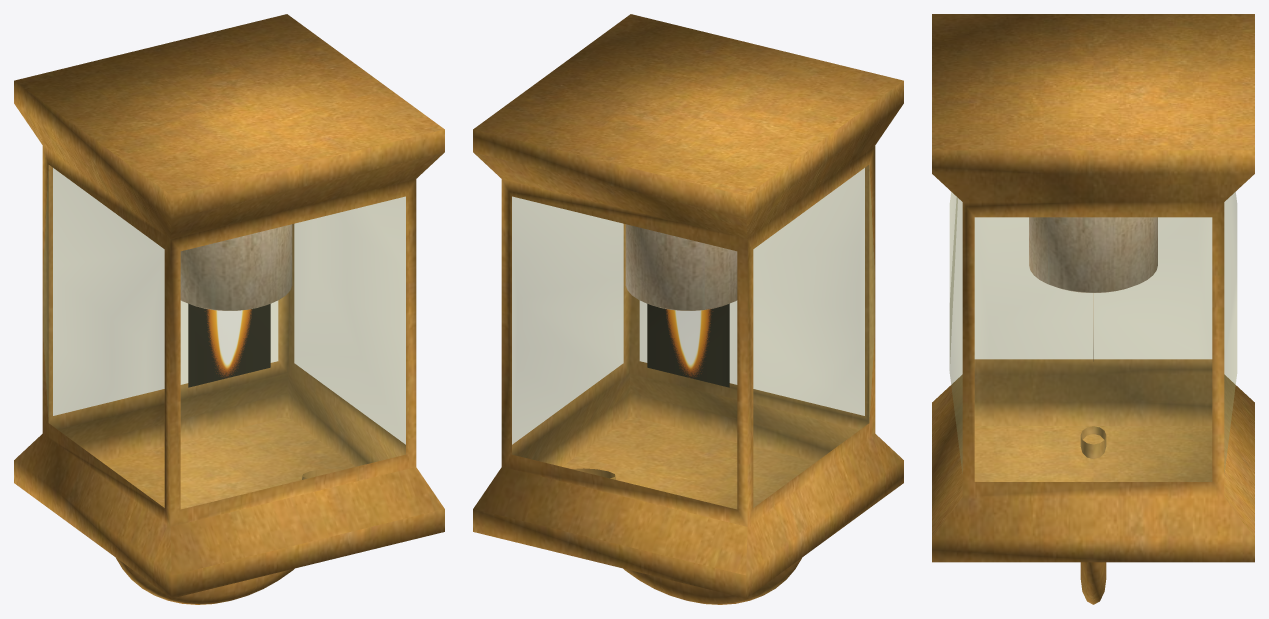
Rendered from candle_lantern_opt.glb.
3 renders of one model, left to right at view 1: azimuth 30°, elevation 25°; view 2: azimuth 150°, elevation 25°; view 3: azimuth 270°, elevation 25°, orthographic. The views are drawn at different scales.
Parts seen in each view (by area): view 1: Lamp_LampBody_0, Lamp_Glass_0, Lamp_Candle_0, Lamp_Flame_0; view 2: Lamp_LampBody_0, Lamp_Glass_0, Lamp_Candle_0, Lamp_Flame_0; view 3: Lamp_LampBody_0, Lamp_Glass_0, Lamp_Candle_0.
Boxes of the visible parts, <box> form: Lamp_LampBody_0: <box>14,14,444,604</box>; Lamp_Glass_0: <box>43,165,405,508</box>; Lamp_Candle_0: <box>180,224,292,310</box>; Lamp_Flame_0: <box>188,303,270,387</box>; Lamp_LampBody_0: <box>473,14,903,604</box>; Lamp_Glass_0: <box>512,165,874,508</box>; Lamp_Candle_0: <box>625,224,737,310</box>; Lamp_Flame_0: <box>647,303,729,387</box>; Lamp_LampBody_0: <box>932,14,1254,604</box>; Lamp_Glass_0: <box>949,192,1236,481</box>; Lamp_Candle_0: <box>1029,217,1157,292</box>.
Bounding box in the file's own units: 2 × 3.47 × 2.
Materials: 4 (3 with a texture image).
